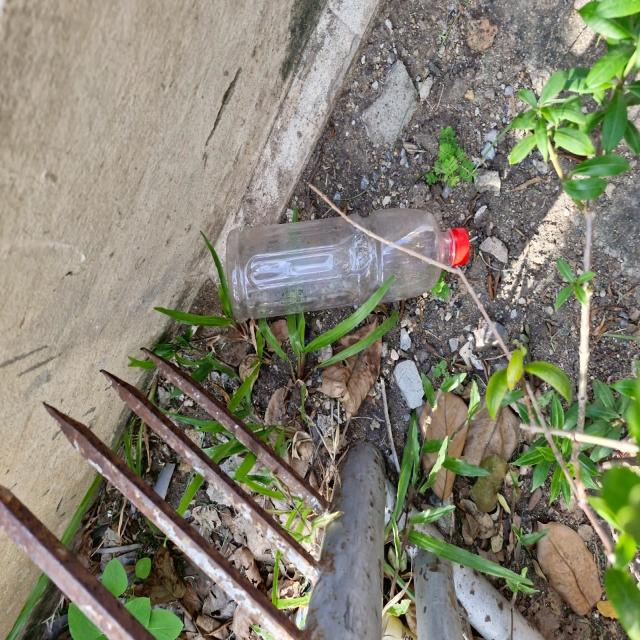plastic bottle: (222, 203, 493, 309)
